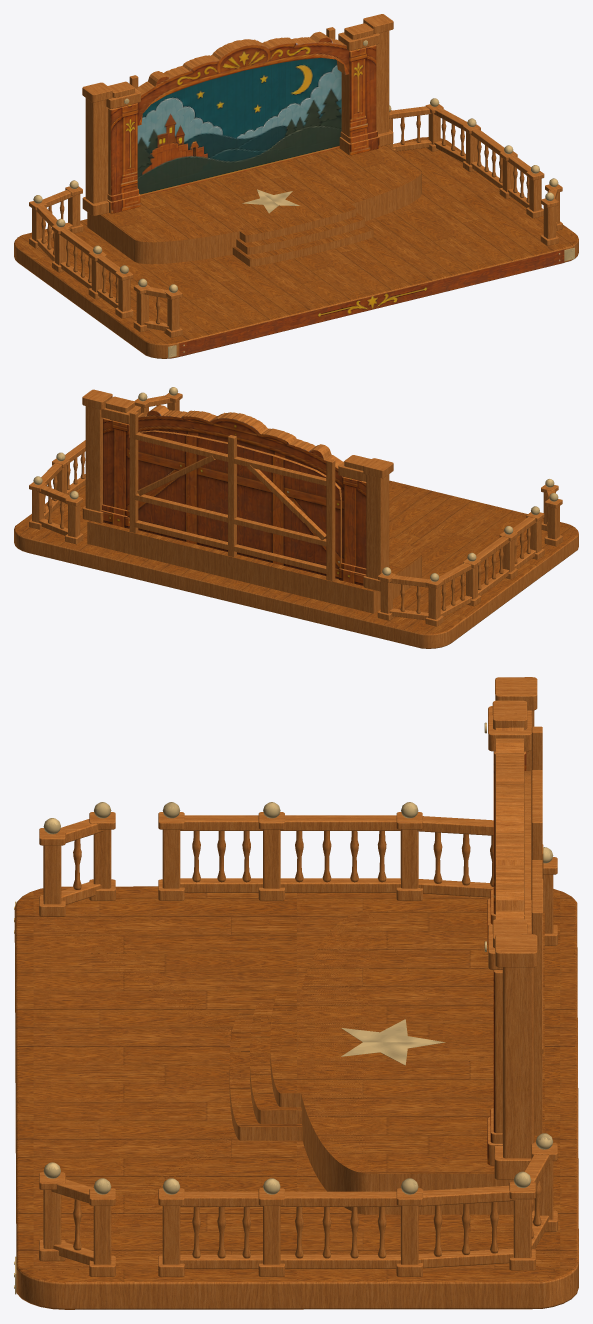
Rendered from final_theatre_stage_pbr_v2.glb.
The picture shows the model from 3 angles, top to bottom: view 1: azimuth 30°, elevation 25°; view 2: azimuth 150°, elevation 25°; view 3: azimuth 270°, elevation 25°; orthographic projection. The views are drawn at different scales.
Visible parts, largest first — view 1: Ground_floor, Backdrop_canvas, RaisedStage_floor, Balustrades_wood, Proscenium_decor, Proscenium_wood, Ground_decor, RaisedStage_wood, Ground_wood, Stairs_wood, Stairs_floor, Balustrades_brass (+1 smaller); view 2: Ground_floor, Backdrop_decor, Balustrades_wood, RearStructure_wood, Proscenium_decor, Proscenium_wood, Ground_wood, RaisedStage_wood, RaisedStage_floor, Balustrades_brass, Backdrop_wood; view 3: Ground_floor, Balustrades_wood, RaisedStage_floor, Proscenium_wood, Ground_wood, Stairs_floor, RaisedStage_wood, RearStructure_wood, Balustrades_brass, Stairs_wood, RaisedStage_brass, Backdrop_wood (+1 smaller).
Part boxes in pixels (x1=…): Ground_floor: x1=14, y1=137, x2=578, y2=358; Backdrop_canvas: x1=137, y1=58, x2=341, y2=196; RaisedStage_floor: x1=100, y1=145, x2=421, y2=242; Balustrades_wood: x1=29, y1=104, x2=562, y2=337; Proscenium_decor: x1=110, y1=37, x2=379, y2=213; Proscenium_wood: x1=82, y1=14, x2=393, y2=215; Ground_decor: x1=179, y1=249, x2=564, y2=356; RaisedStage_wood: x1=87, y1=172, x2=421, y2=264; Ground_wood: x1=14, y1=237, x2=578, y2=358; Stairs_wood: x1=232, y1=208, x2=373, y2=266; Stairs_floor: x1=233, y1=202, x2=373, y2=259; Balustrades_brass: x1=33, y1=98, x2=558, y2=292; Ground_floor: x1=14, y1=436, x2=578, y2=648; Backdrop_decor: x1=127, y1=431, x2=340, y2=578; Balustrades_wood: x1=29, y1=393, x2=562, y2=626; RearStructure_wood: x1=129, y1=411, x2=335, y2=581; Proscenium_decor: x1=101, y1=410, x2=366, y2=585; Proscenium_wood: x1=82, y1=389, x2=393, y2=591; Ground_wood: x1=14, y1=529, x2=578, y2=648; RaisedStage_wood: x1=87, y1=522, x2=421, y2=613; RaisedStage_floor: x1=87, y1=520, x2=421, y2=591; Balustrades_brass: x1=33, y1=387, x2=558, y2=581; Backdrop_wood: x1=138, y1=430, x2=341, y2=568; Ground_floor: x1=15, y1=886, x2=578, y2=1309; Balustrades_wood: x1=39, y1=812, x2=557, y2=1276; RaisedStage_floor: x1=295, y1=911, x2=544, y2=1173; Proscenium_wood: x1=487, y1=677, x2=537, y2=1179; Ground_wood: x1=14, y1=901, x2=578, y2=1309; Stairs_floor: x1=229, y1=991, x2=310, y2=1126; RaisedStage_wood: x1=301, y1=1094, x2=534, y2=1214; RearStructure_wood: x1=531, y1=726, x2=543, y2=1135; Balustrades_brass: x1=43, y1=802, x2=553, y2=1194; Stairs_wood: x1=229, y1=1053, x2=302, y2=1140; RaisedStage_brass: x1=341, y1=1019, x2=445, y2=1065; Backdrop_wood: x1=524, y1=771, x2=530, y2=925.
Size of the model in its own units: 3 by 1.12 by 1.8.
5 materials, 5 textured.
